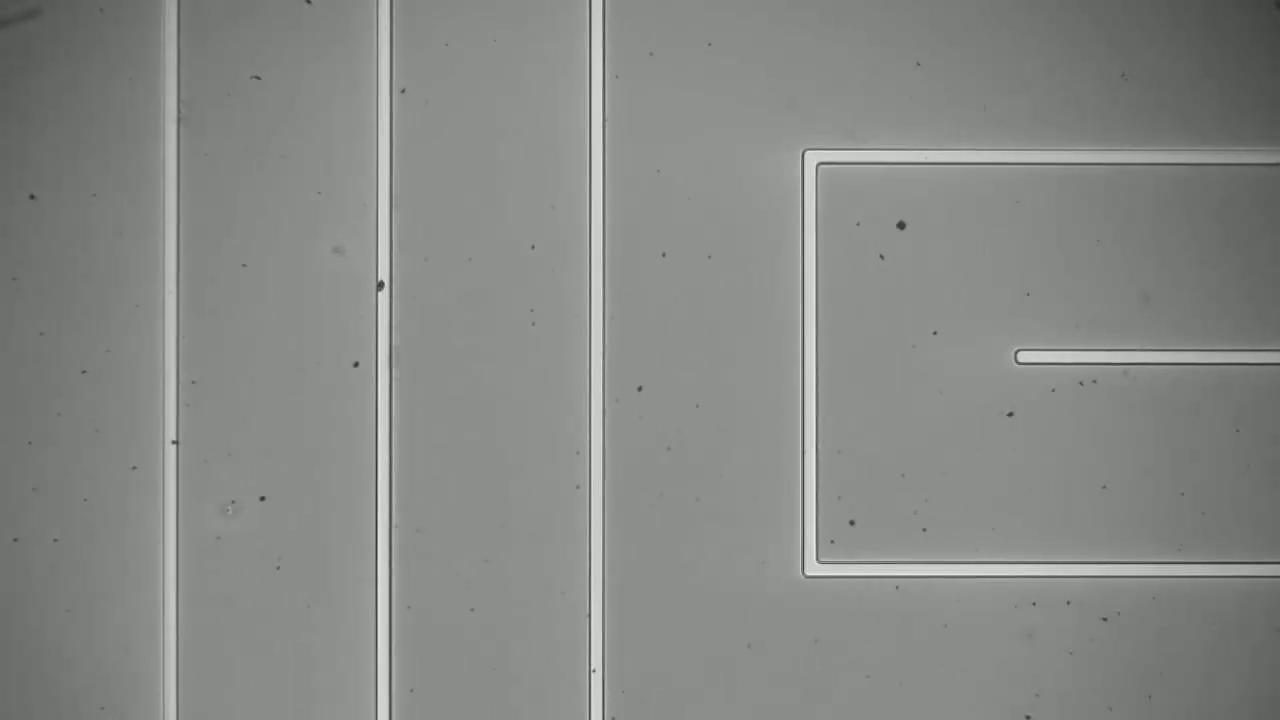stains_enbedded: (374, 274, 397, 297)
